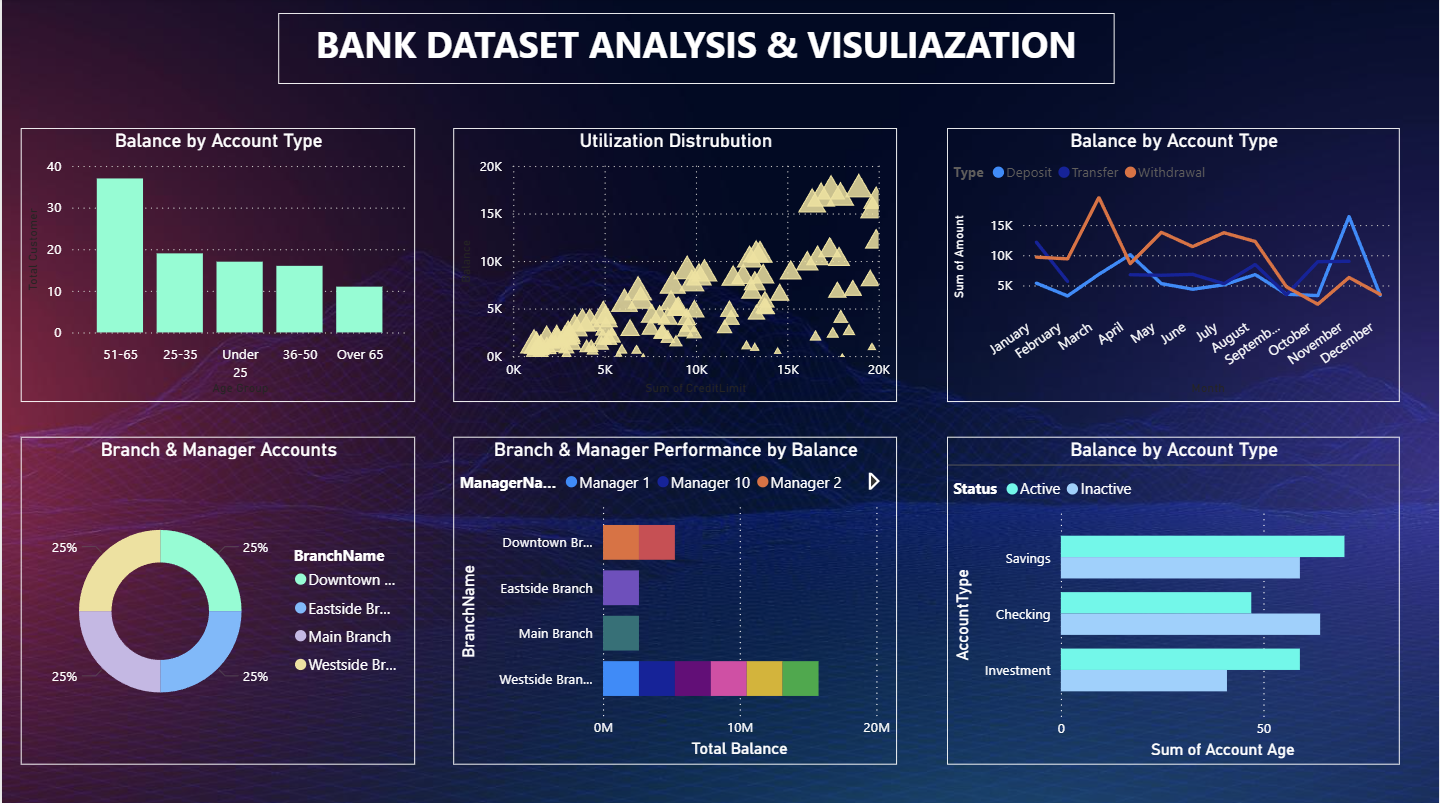

Layout of this report page (visuals, bound fields, positions):
{"tool":"powerbi","page":{"name":"Page 2","canvas":[1280,720],"ordinal":1},"visuals":[{"type":"columnChart","title":"Balance by Account Type","fields":{"Category":["customers.Age Group"],"Y":["customers.Total Customer"]},"box":[16.5,115.3,351.3,244.3],"z":0},{"type":"textbox","box":[245.6,13.7,745.1,63.1],"z":1000},{"type":"scatterChart","title":"Utilization Distrubution","fields":{"Y":["credit_cards.Balance"],"X":["credit_cards.CreditLimit"],"Size":["credit_cards.Credit Utilization"]},"box":[402.1,115.3,395.2,244.3],"z":2000},{"type":"lineChart","title":"Balance by Account Type","fields":{"Series":["transactions.Type"],"Y":["transactions.Amount"],"Category":["transactions.TransactionDate.Variation.Date Hierarchy.Month"]},"box":[841.2,115.3,403.4,244.3],"z":3000},{"type":"donutChart","title":"Branch & Manager Accounts","fields":{"Category":["branches.BranchName","branches.ManagerName"],"Y":["customers.Total Customer"]},"box":[16.5,391.1,351.3,292.3],"z":4000},{"type":"barChart","title":"Branch & Manager Performance by Balance","fields":{"Y":["accounts.Total Balance"],"Category":["branches.BranchName"],"Series":["branches.ManagerName"]},"box":[402.1,391.1,395.2,292.3],"z":5000},{"type":"clusteredBarChart","title":"Balance by Account Type","fields":{"Category":["accounts.AccountType"],"Y":["accounts.Account Age"],"Series":["accounts.Status"]},"box":[841.2,391.1,403.4,292.3],"z":6000}]}

Visuals, with their boxes in screenshot pixels (x1, y1, x2, y2), scaled from the page's 1280x720 canvas onto the 1440x803 screenshot:
"Balance by Account Type" columnChart: 19:129:414:401
textbox: 276:15:1115:86
"Utilization Distrubution" scatterChart: 452:129:897:401
"Balance by Account Type" lineChart: 946:129:1400:401
"Branch & Manager Accounts" donutChart: 19:436:414:762
"Branch & Manager Performance by Balance" barChart: 452:436:897:762
"Balance by Account Type" clusteredBarChart: 946:436:1400:762
